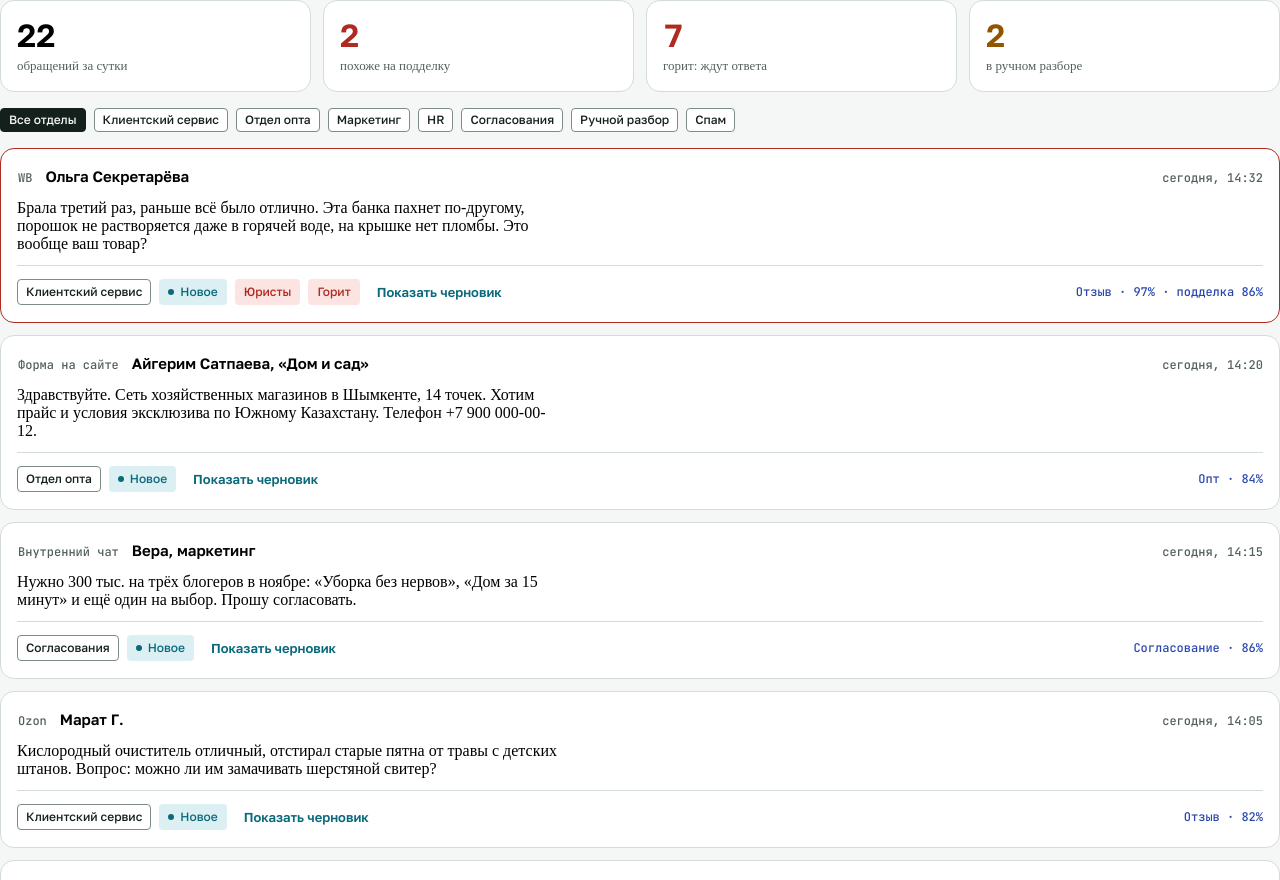
it: Feed › фильтрует по отделу
The width and height of the screenshot is (1280, 880).
What coordinates should you click on to do the following:
click the button "HR"
I would click on:
 (436, 120)
Its box is x1=418 y1=108 x2=453 y2=132.
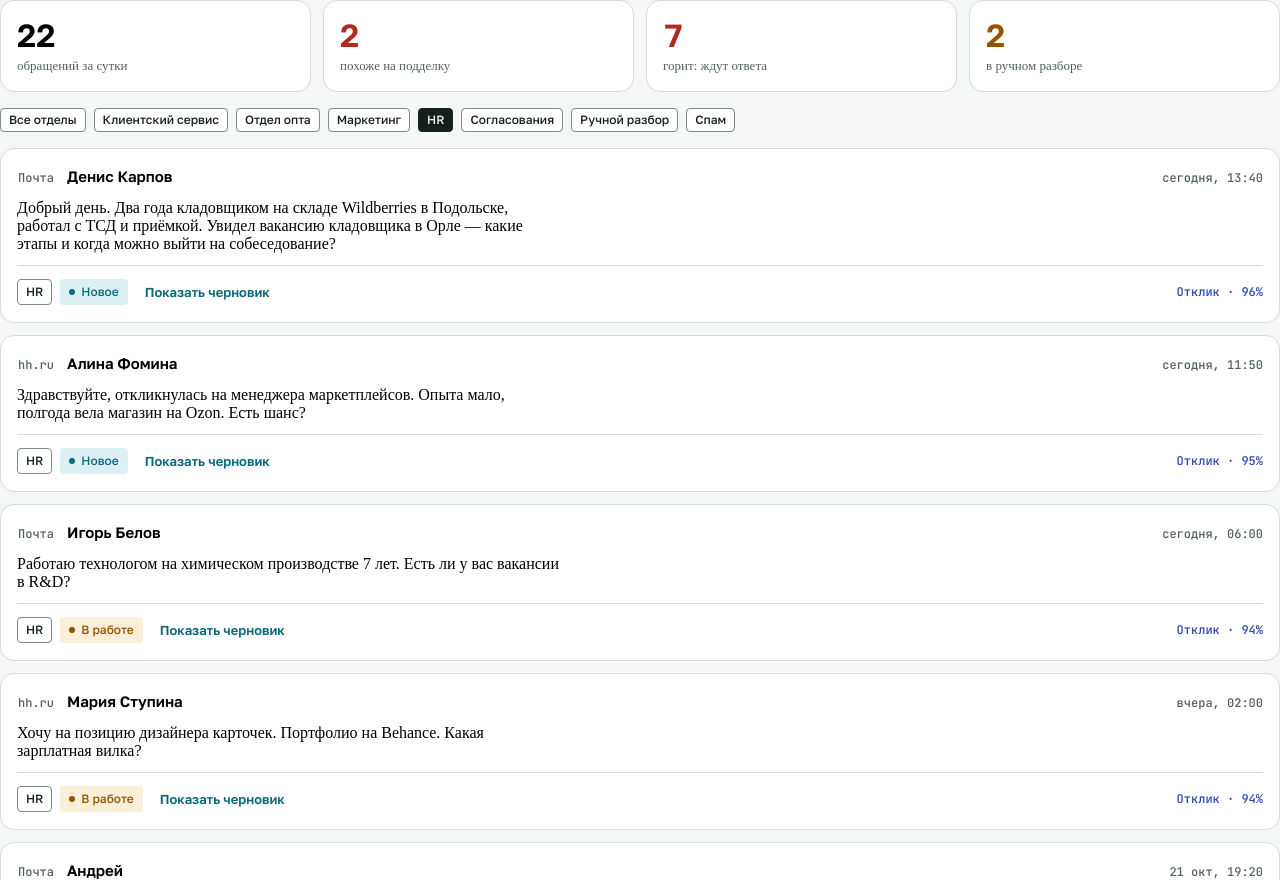
Check: the number of elements with class "it-card" is 8
What coordinates should you click on to do the following:
click the button "Все отделы"
I would click on:
 (43, 120)
Its box is x1=0 y1=108 x2=86 y2=132.
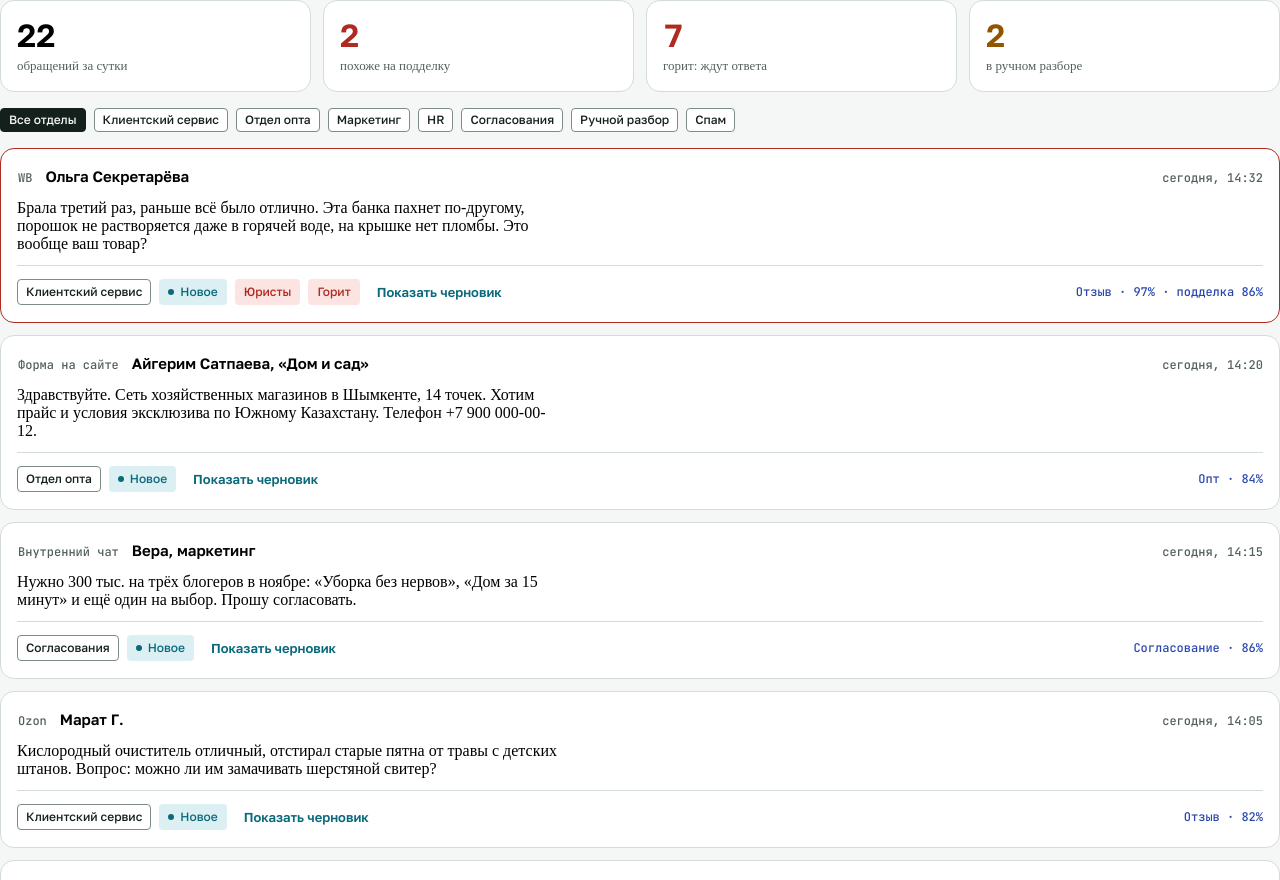
Check: the number of elements with class "it-card" is 45
